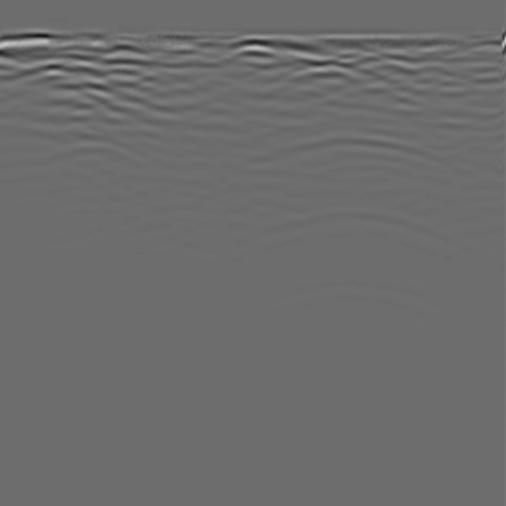hyperbola: (213, 117, 490, 259)
